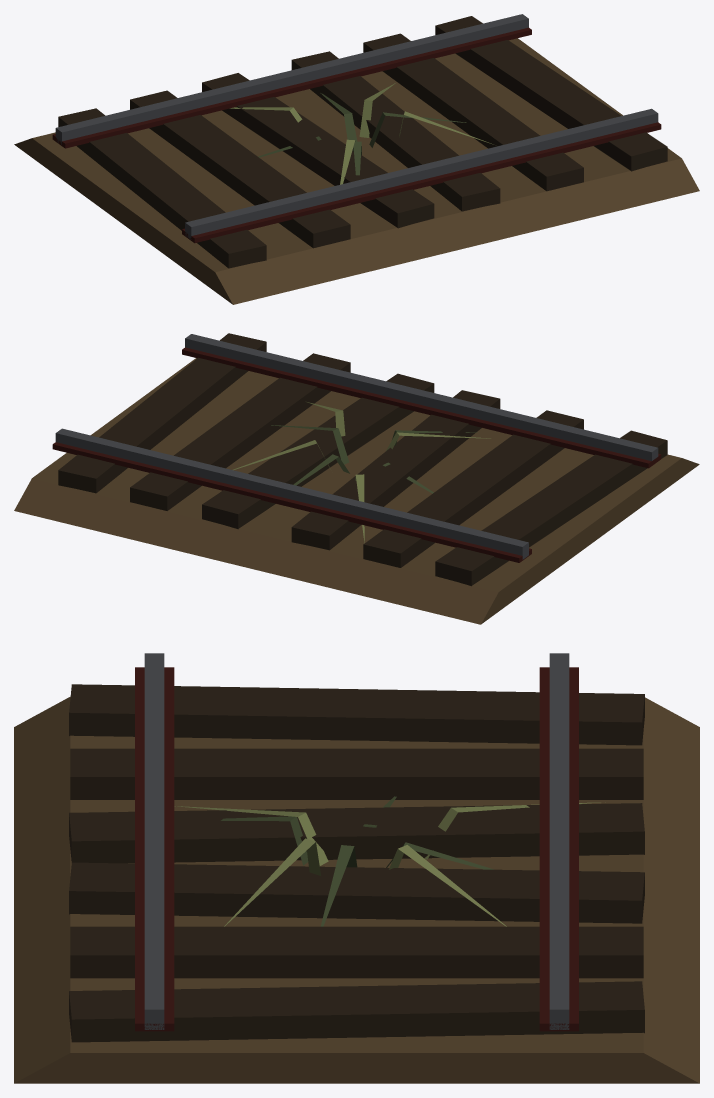
Rendered from scablands_rail_track.glb.
3 renders of one model, top to bottom at view 1: azimuth 30°, elevation 25°; view 2: azimuth 150°, elevation 25°; view 3: azimuth 270°, elevation 25°, orthographic. The views are drawn at different scales.
Parts seen in each view (by area): view 1: scablands_rail_track; view 2: scablands_rail_track; view 3: scablands_rail_track.
Part boxes in pixels (x1=…): scablands_rail_track: x1=14, y1=14, x2=699, y2=304; scablands_rail_track: x1=14, y1=333, x2=699, y2=624; scablands_rail_track: x1=14, y1=653, x2=699, y2=1083.
Size of the model in its own units: 3 by 0.354 by 2.44.
